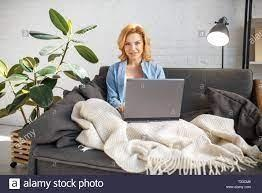FallenBody: (106, 22, 186, 114)
